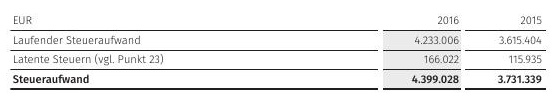table: (0, 0, 557, 102)
